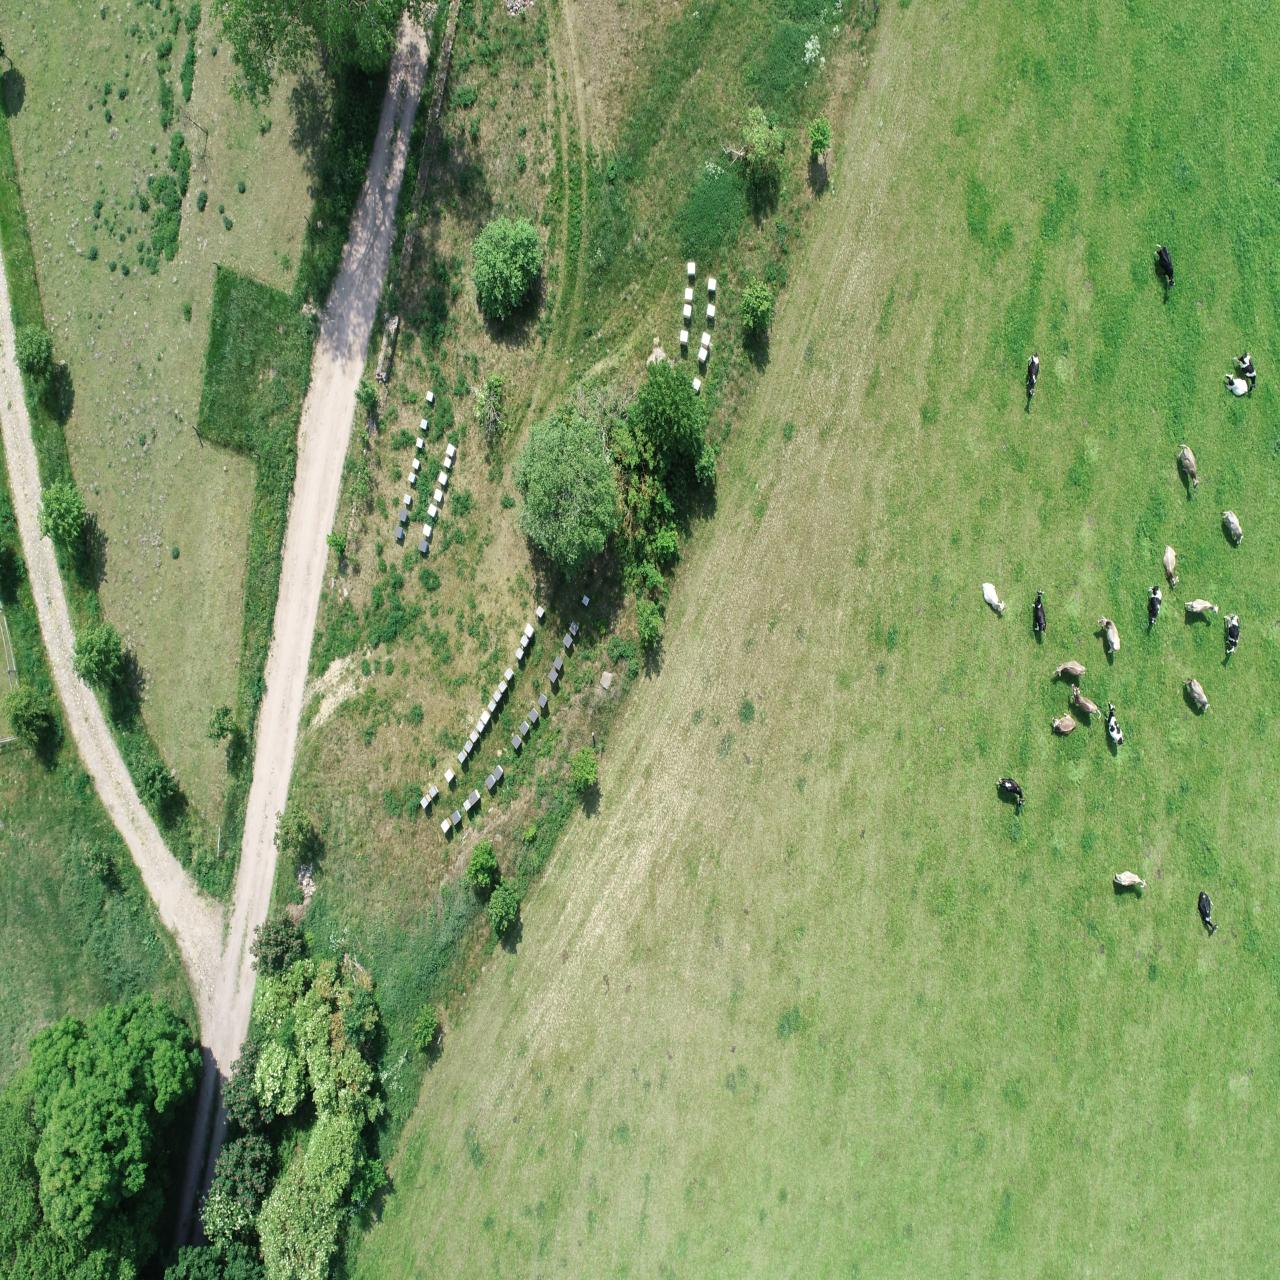cow: (1069, 682, 1102, 726), (1182, 674, 1212, 717), (1152, 241, 1176, 293), (1231, 350, 1257, 397), (1177, 442, 1200, 490), (1219, 508, 1245, 551), (1197, 888, 1219, 937), (1103, 700, 1125, 747), (995, 775, 1027, 808), (1096, 614, 1122, 654), (1112, 869, 1149, 896), (1030, 586, 1049, 636), (981, 580, 1007, 617), (1183, 592, 1220, 617), (1162, 542, 1180, 591), (1223, 610, 1241, 658), (1051, 656, 1089, 679), (1050, 710, 1077, 738), (1026, 350, 1041, 400), (1148, 584, 1163, 628), (1224, 372, 1250, 397)
